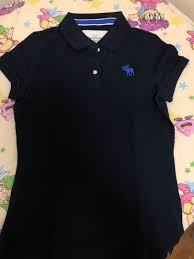C_polo shirt: (1, 14, 194, 249)
